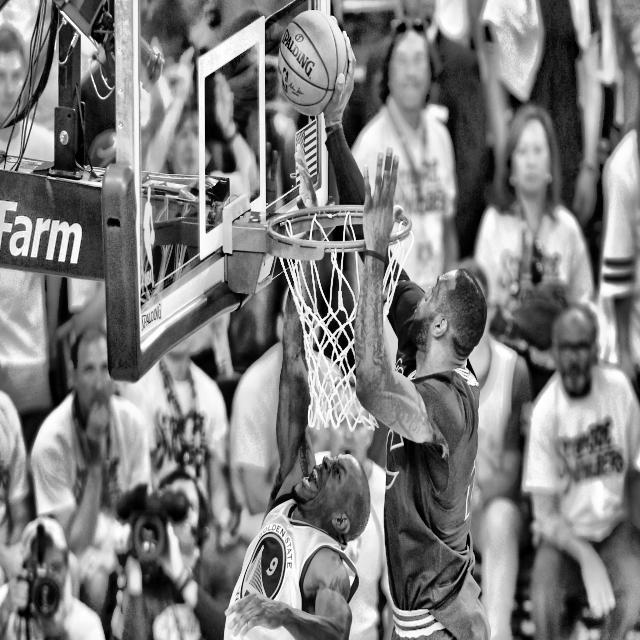Basketball: (279, 8, 348, 114)
